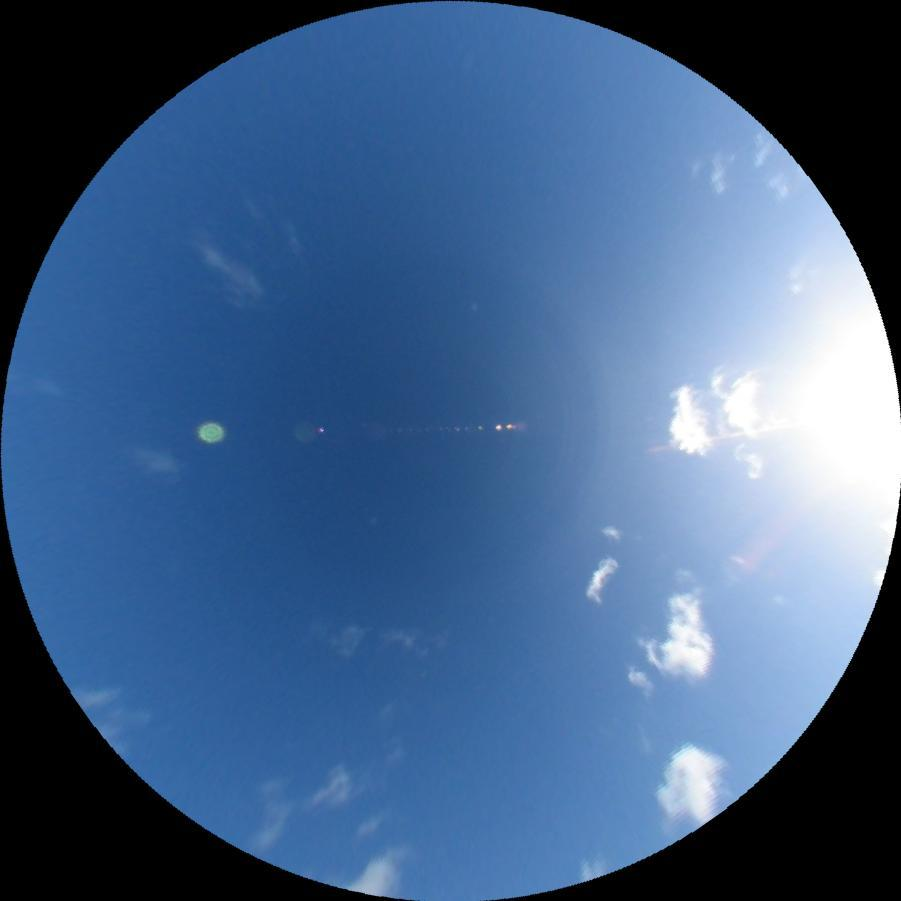parasite: (640, 418, 798, 453)
